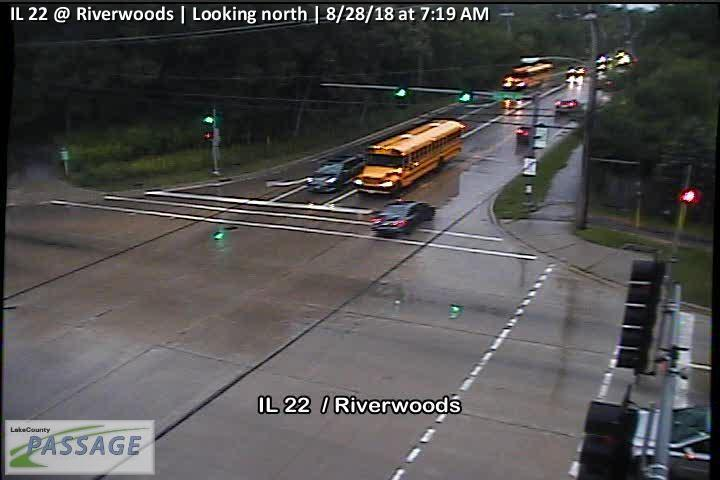Bus: (350, 120, 465, 195), (501, 62, 554, 91)
Sedan: (371, 199, 438, 237), (305, 154, 364, 193), (555, 96, 584, 111)
